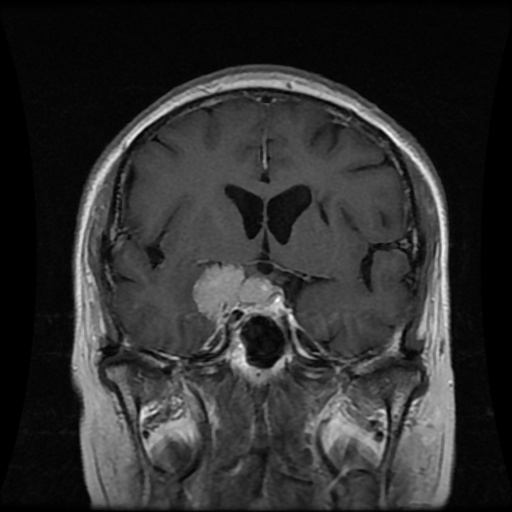meningioma: (192, 260, 284, 324)
